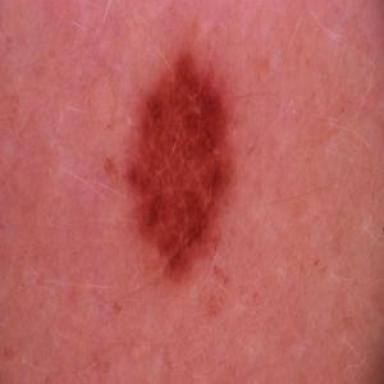Melanoma: (126, 51, 234, 282)
